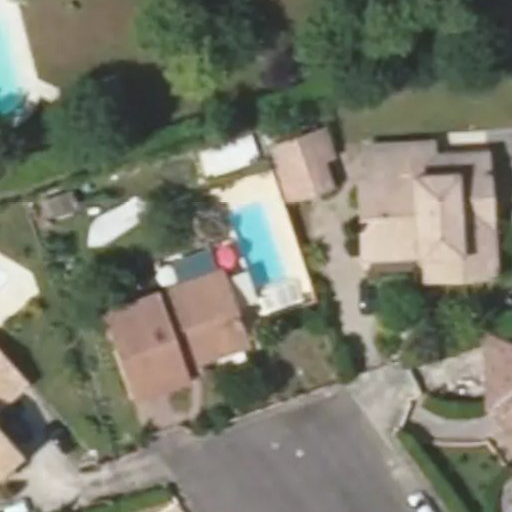pool: (225, 209, 286, 274)
